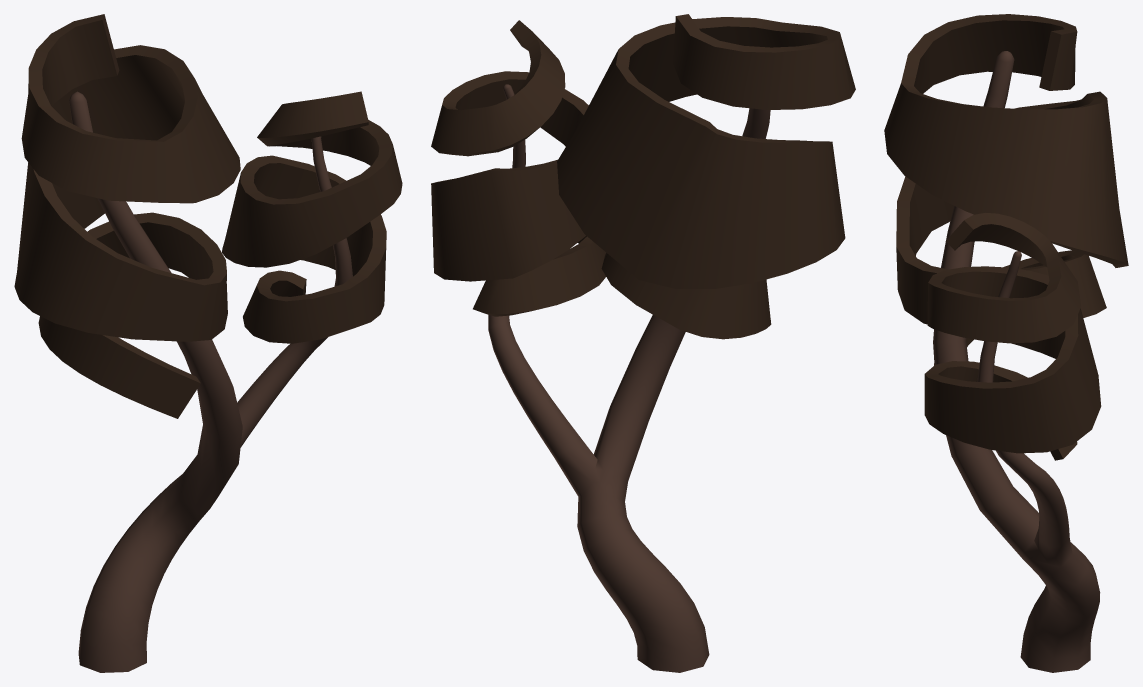
The model's file is quaternius-ultimate-space-tree-spiral-2.glb.
3 renders of one model, left to right at view 1: azimuth 30°, elevation 25°; view 2: azimuth 150°, elevation 25°; view 3: azimuth 270°, elevation 25°, orthographic. The views are drawn at different scales.
Parts seen in each view (by area): view 1: Tree_Spiral_2; view 2: Tree_Spiral_2; view 3: Tree_Spiral_2.
Part boxes in pixels (x1,y1,x2,y2): Tree_Spiral_2: (14,14,402,672); Tree_Spiral_2: (431,14,855,672); Tree_Spiral_2: (884,14,1128,672).
Bounding box in the file's own units: 3.8 × 6.19 × 2.2.
Materials: 1 (1 with a texture image).
